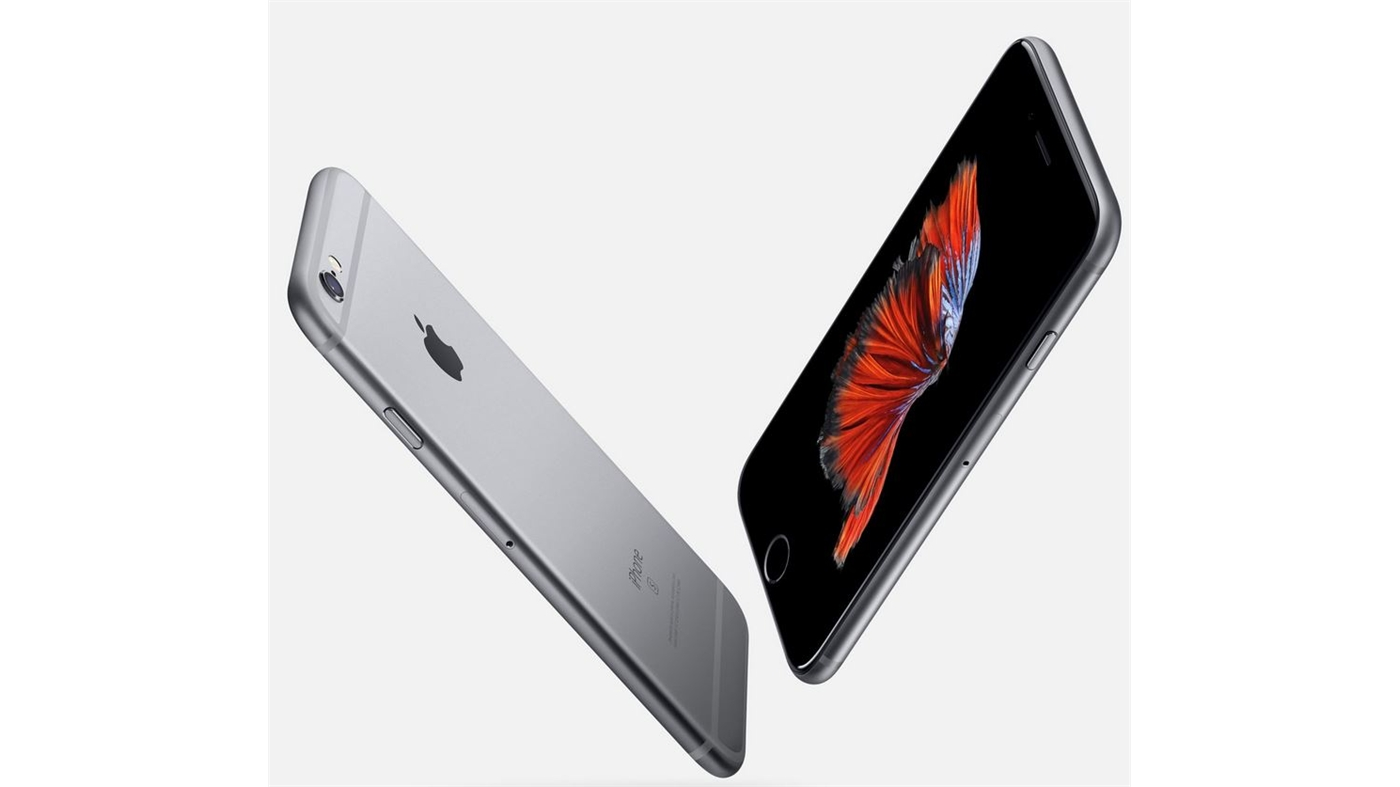smartphone: (286, 166, 749, 779), (737, 36, 1122, 684)
